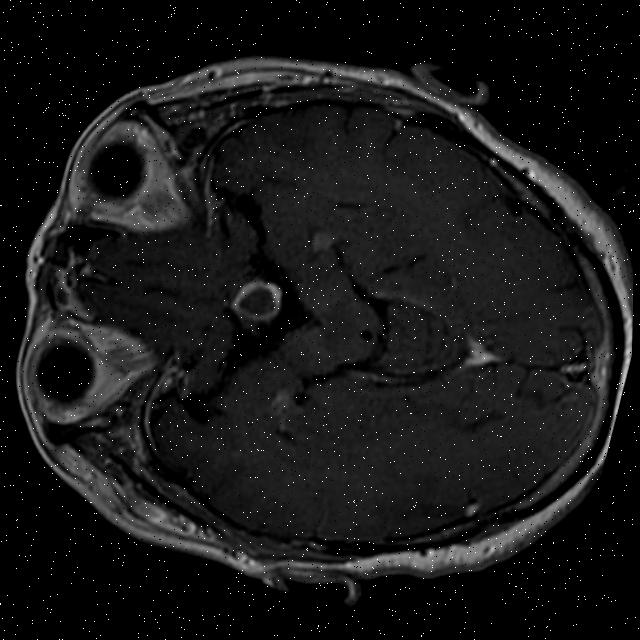Pituitary: (227, 273, 286, 325)
